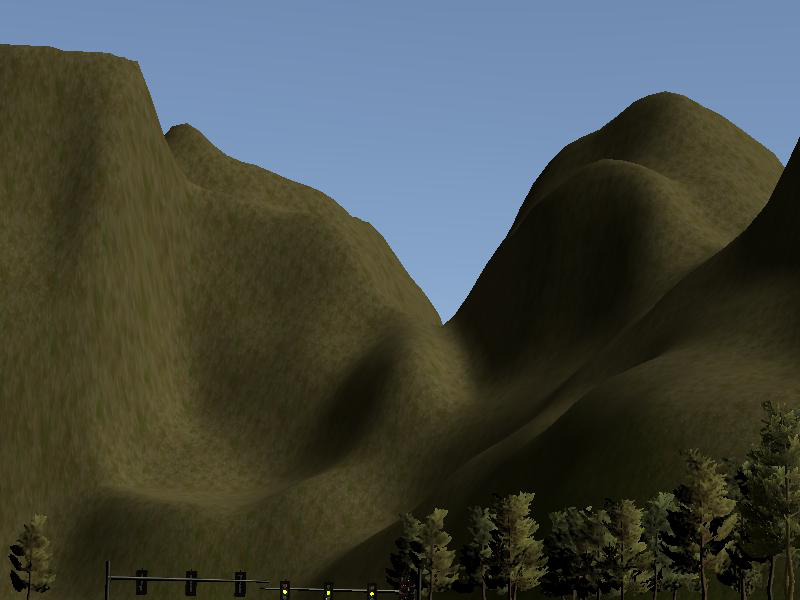yellow: (281, 582, 291, 600), (324, 583, 334, 600), (368, 585, 378, 600)
